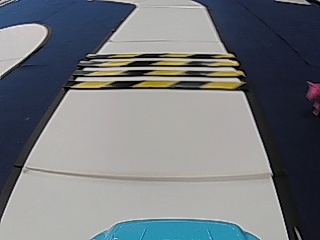bump: (59, 47, 254, 96)
